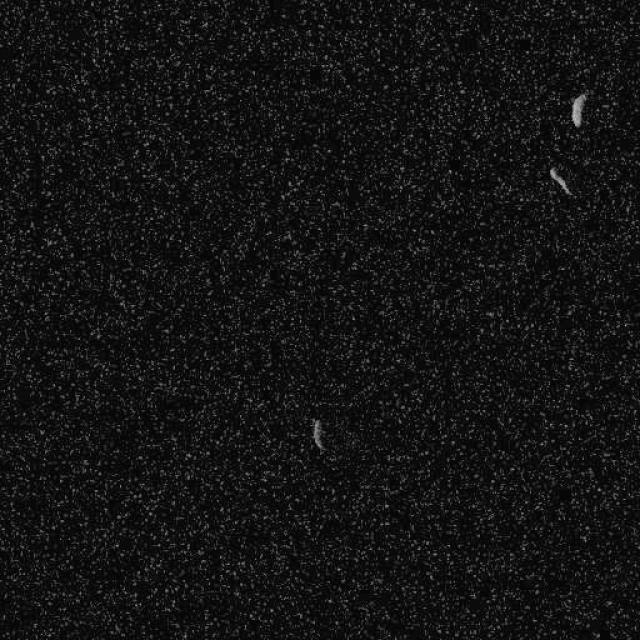D2: (548, 165, 572, 196), (568, 91, 588, 128), (310, 416, 326, 454)
